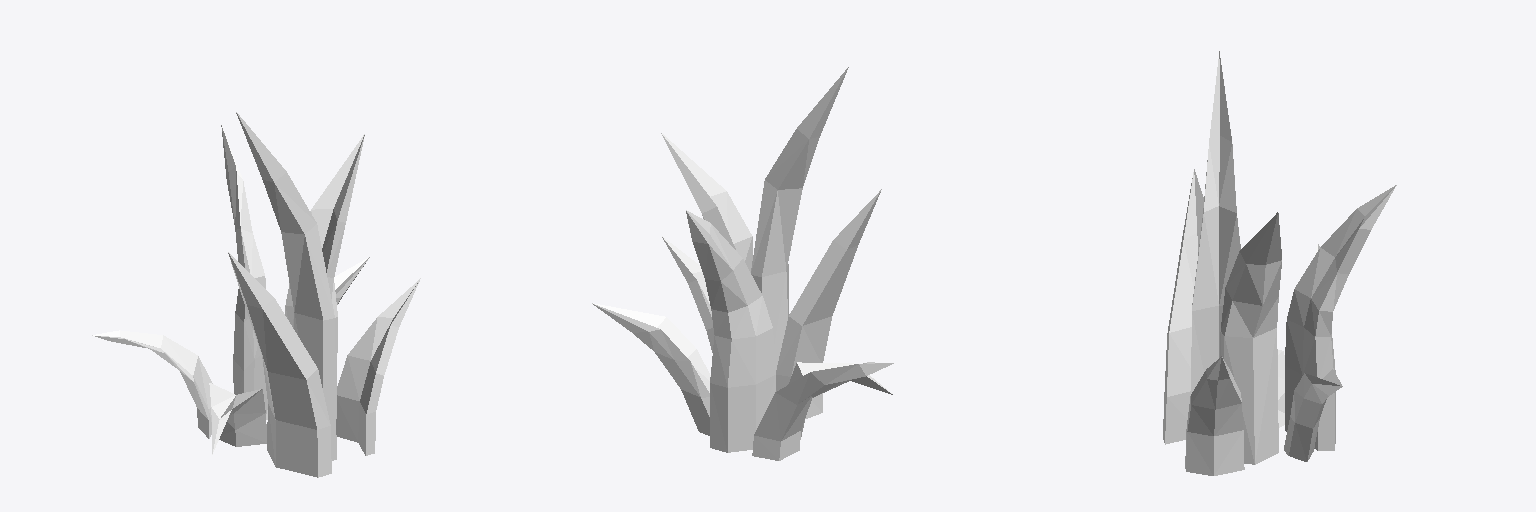
File: grass.obj
3 views of the same model, side by side, from view 1: azimuth 30°, elevation 25°; view 2: azimuth 150°, elevation 25°; view 3: azimuth 270°, elevation 25° (orthographic).
Parts seen in each view (by area): view 1: grass_2_Mesh.012, grass_1_Mesh.011; view 2: grass_1_Mesh.011, grass_2_Mesh.012; view 3: grass_2_Mesh.012, grass_1_Mesh.011.
Part boxes in pixels (x1,y1,x2,y2): grass_2_Mesh.012: (228, 112, 420, 477); grass_1_Mesh.011: (92, 125, 369, 454); grass_1_Mesh.011: (592, 210, 893, 460); grass_2_Mesh.012: (661, 67, 881, 418); grass_2_Mesh.012: (1163, 51, 1281, 475); grass_1_Mesh.011: (1278, 185, 1396, 461).
Size of the model in its own units: 0.8988 by 1.06 by 0.6256.